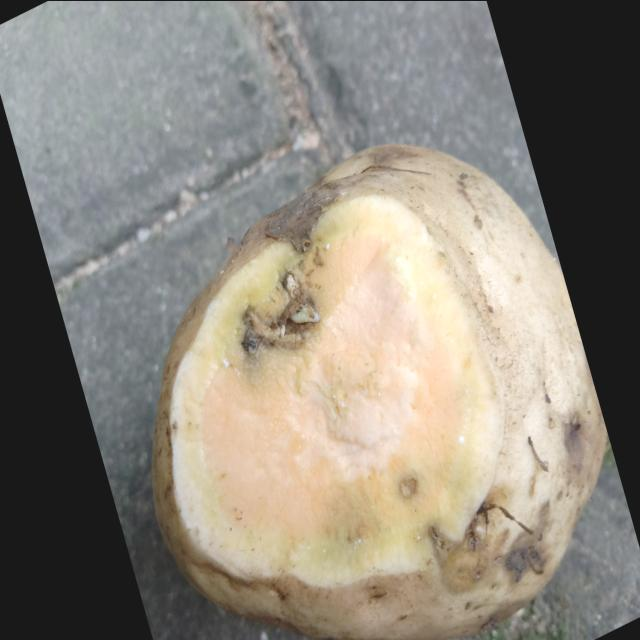Sick Sweet Potato_Tuber Rot: (154, 193, 504, 587)
